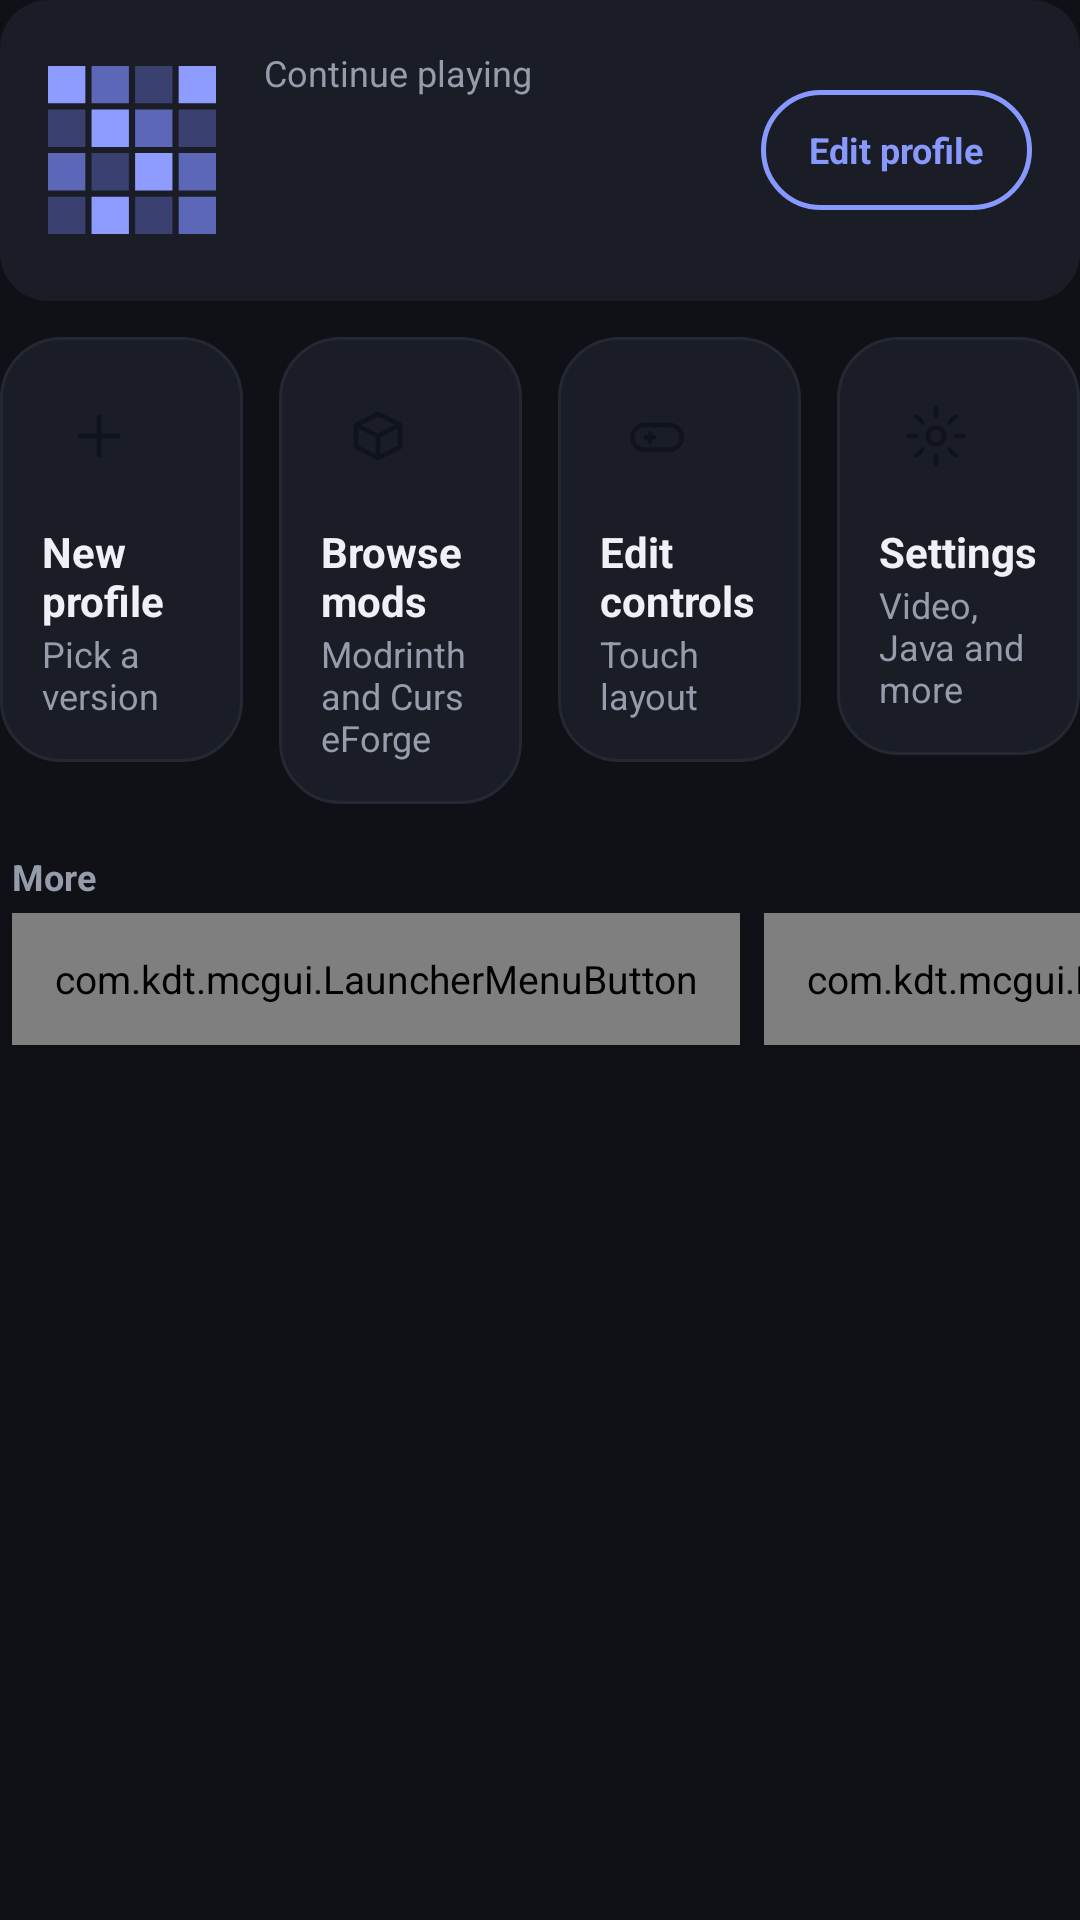

Locate icon controls on the screen. Image size 1080px×1920px, boxes as (x1, y1, x2, y2).
hero art: (48, 66, 216, 234)
